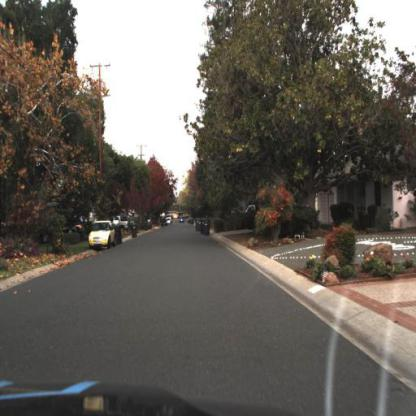car: (87, 214, 120, 254), (69, 217, 88, 237)
